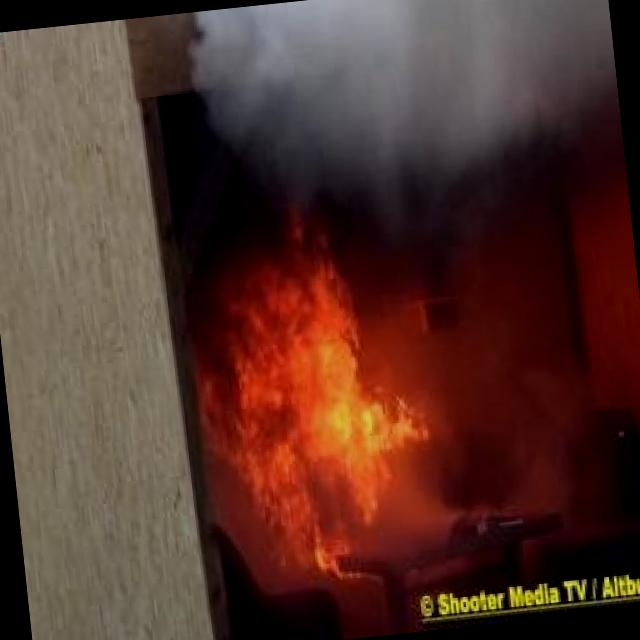fire: (165, 212, 506, 606)
smoke: (167, 0, 627, 225)
